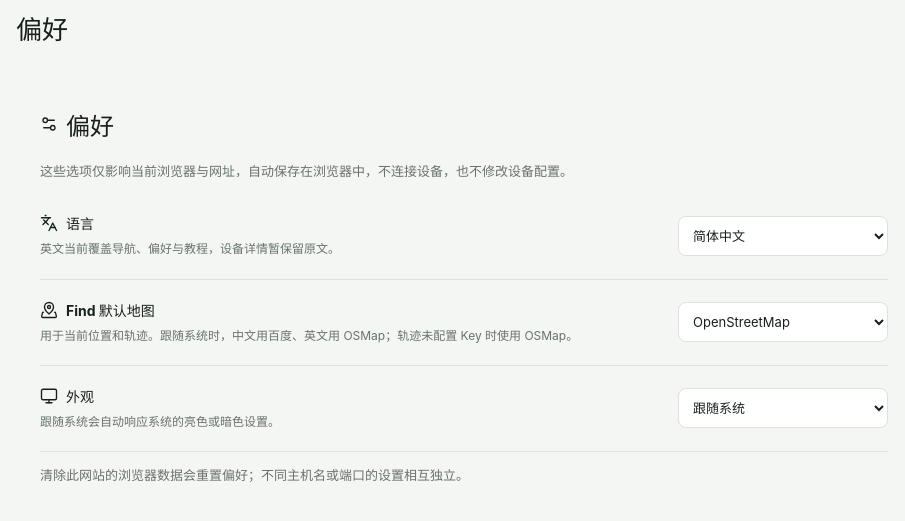
Test: browser-only preferences › saves language, changes rendered controls, and restores after initialization
expect the 1st heading "偏好" is shown: met, box [16,16,68,45]
expect the 2nd heading "偏好" is shown: met, box [40,112,114,140]
Select "English" in the dropdown named "语言" at coordinates (783, 236), box [678,216,888,256]
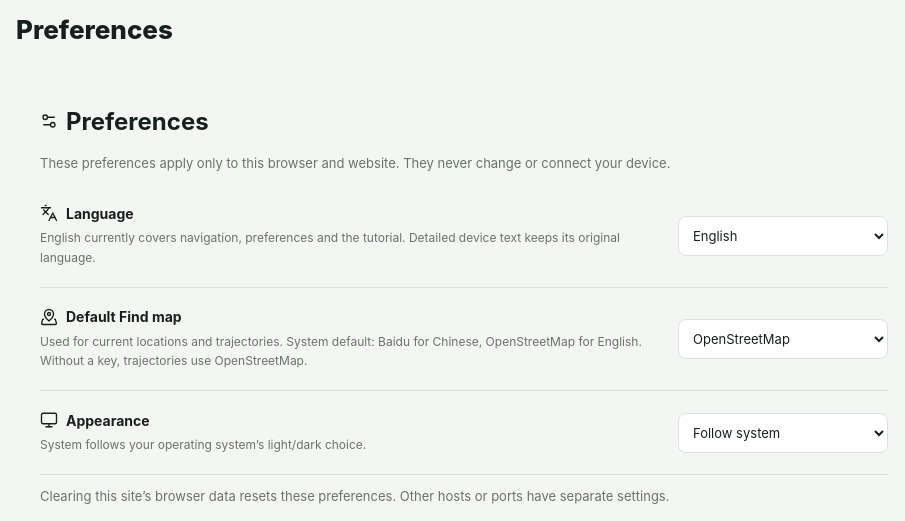
expect the 1st heading "Preferences" is shown: met, box [16,16,173,45]
